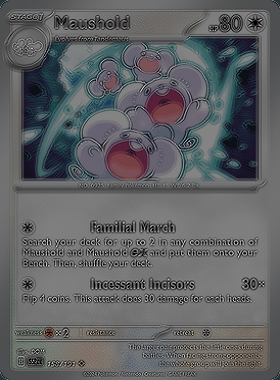Maushold: (0, 0, 280, 380)
